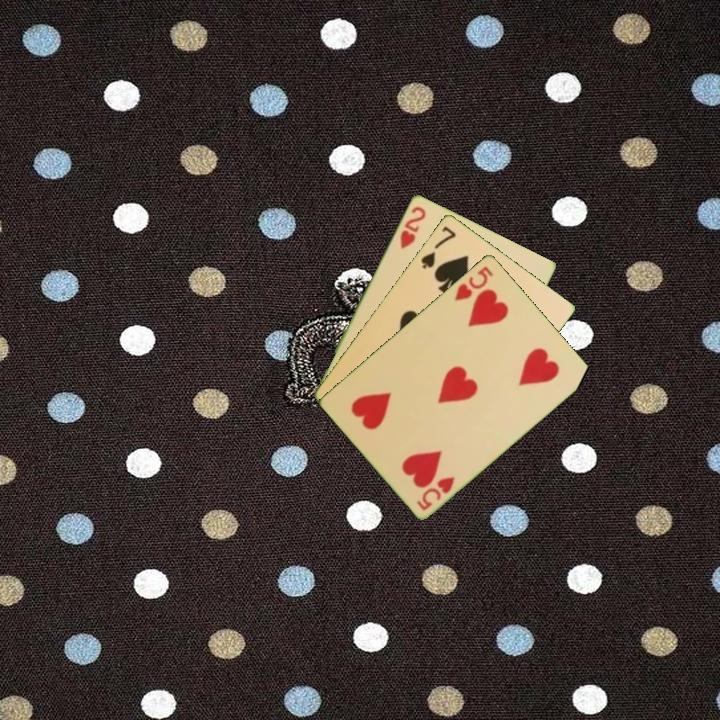2h: (396, 202, 429, 252)
5h: (451, 262, 496, 303), (413, 472, 458, 513)
7s: (417, 222, 459, 272)
